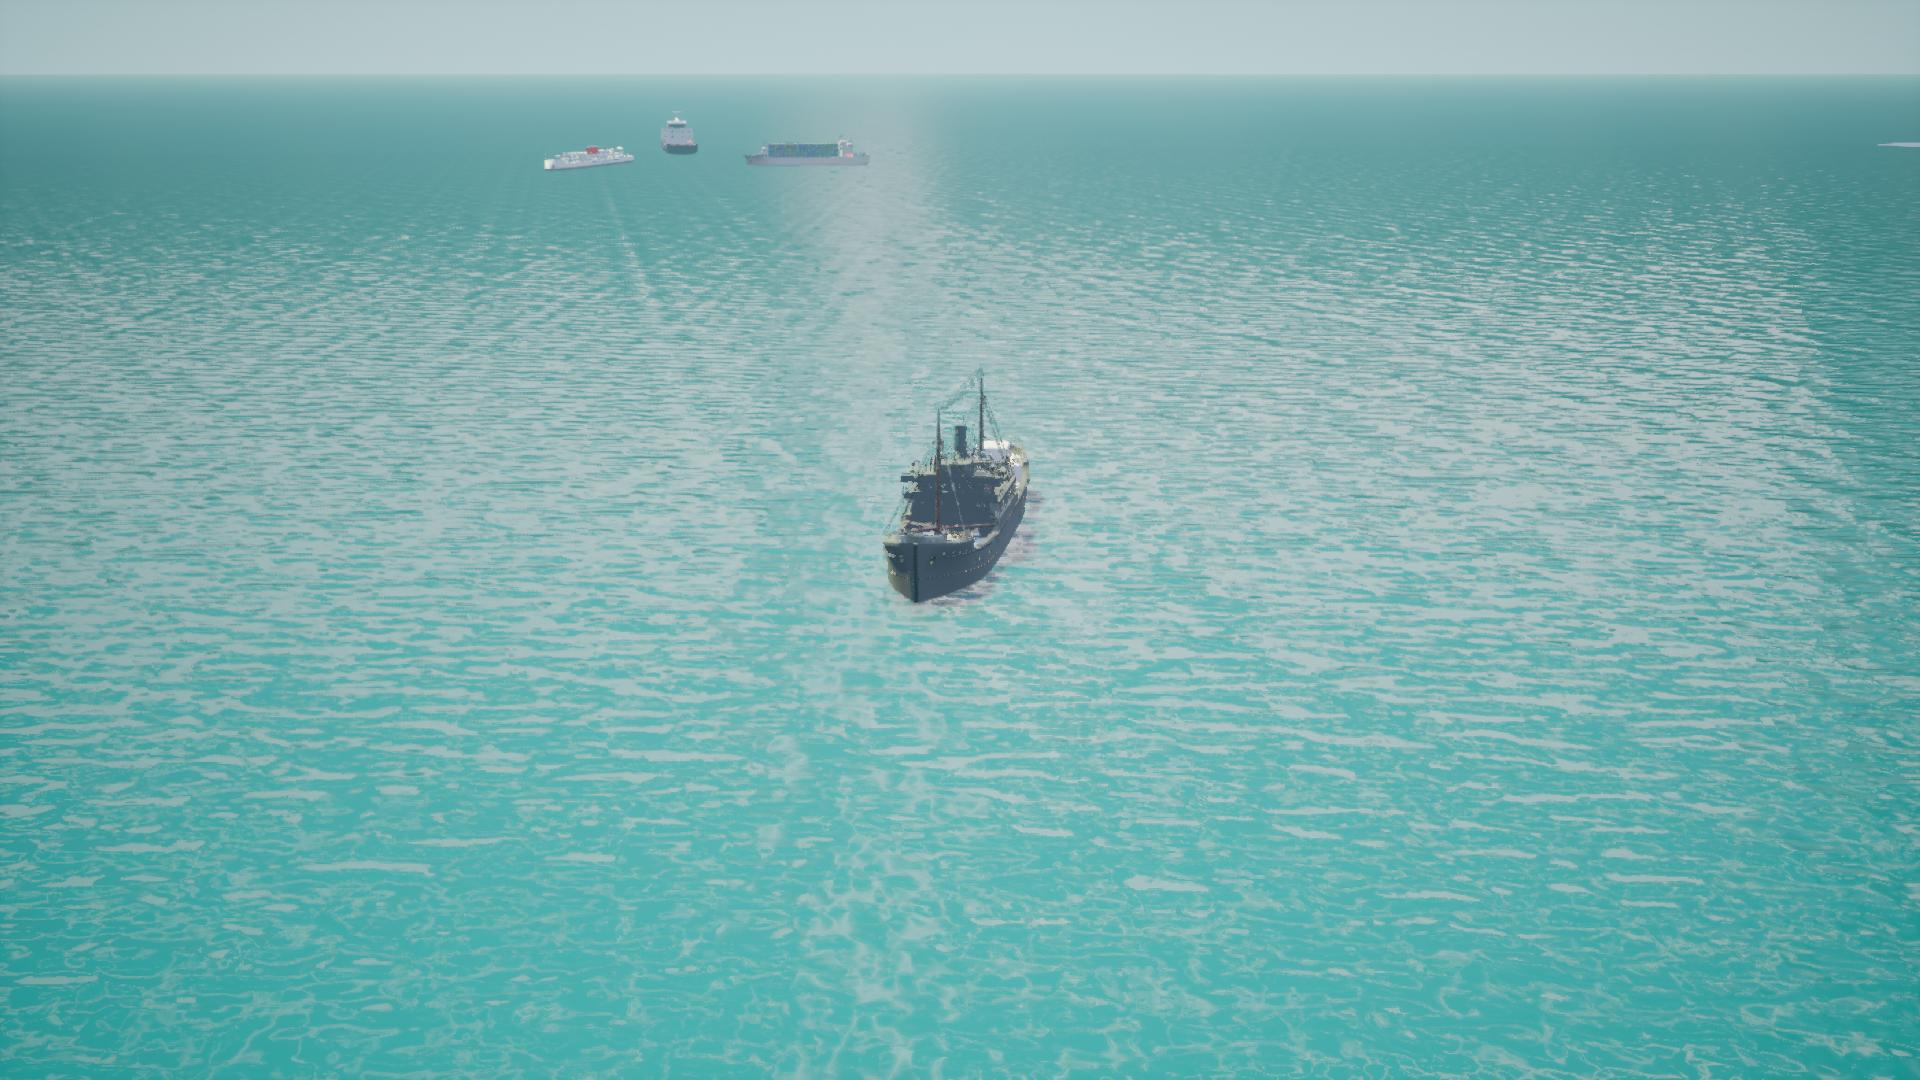Fishing Boat: (885, 375, 1030, 605), (744, 137, 865, 167), (542, 146, 640, 173), (665, 112, 702, 156)
